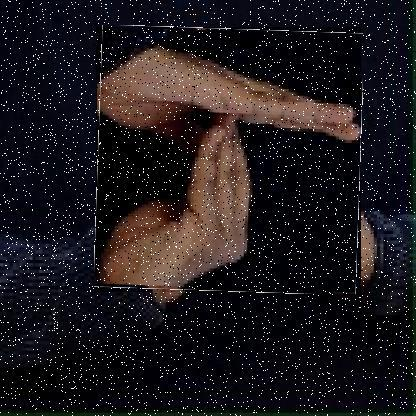Z: (96, 27, 362, 293)
